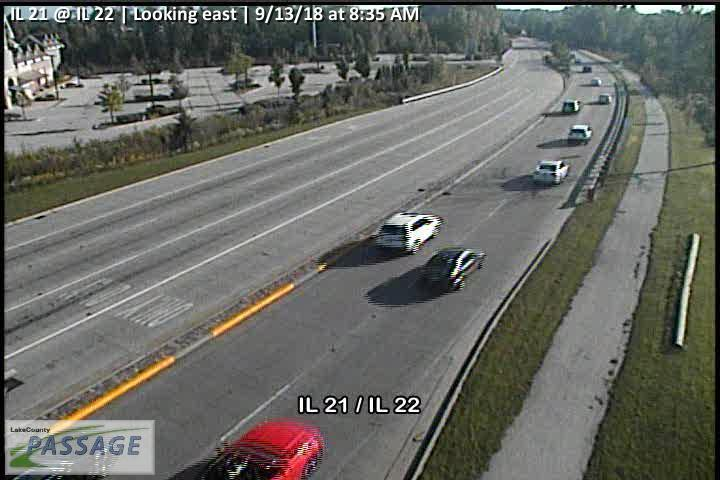SUV: (376, 211, 442, 254), (567, 124, 593, 144), (562, 99, 584, 113), (599, 93, 612, 104)
Sedan: (201, 417, 326, 480), (417, 245, 486, 292), (532, 159, 570, 185)
